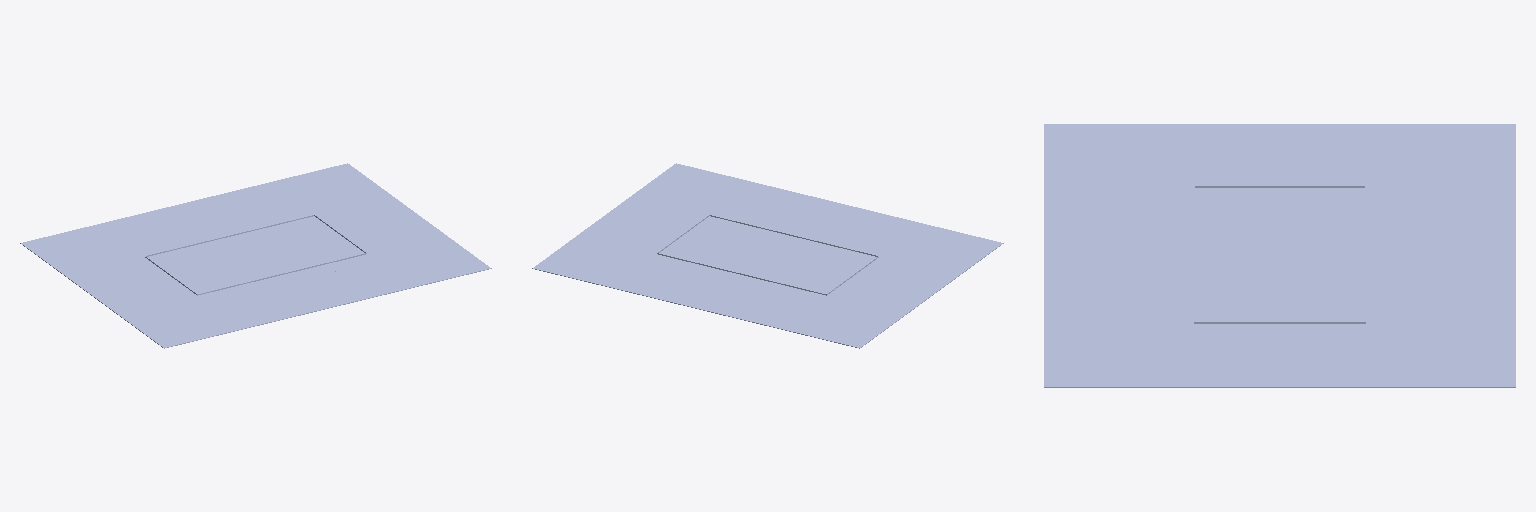
URDF robot description (arna):
<?xml version="1.0" encoding="utf-8"?>
<!-- This URDF was automatically created by SolidWorks to URDF Exporter! Originally created by Stephen Brawner (brawner@gmail.com) 
     Commit Version: 1.6.0-4-g7f85cfe  Build Version: 1.6.7995.38578
     For more information, please see http://wiki.ros.org/sw_urdf_exporter -->
<robot
  name="arna">
  <link
    name="base_link">
    <inertial>
      <origin
        xyz="7.5 4 -0.12402"
        rpy="0 0 0" />
      <mass
        value="32993" />
      <inertia
        ixx="1303200"
        ixy="-5172.5"
        ixz="1.9558E-14"
        iyy="2274500"
        iyz="-1.0441E-13"
        izz="3577600" />
    </inertial>
    <visual>
      <origin
        xyz="0 0 0"
        rpy="0 0 0" />
      <geometry>
        <mesh
          filename="package://arna/meshes/base_link.STL" />
      </geometry>
      <material
        name="">
        <color
          rgba="0.79216 0.81961 0.93333 1" />
      </material>
    </visual>
    <collision>
      <origin
        xyz="0 0 0"
        rpy="0 0 0" />
      <geometry>
        <mesh
          filename="package://arna/meshes/base_link.STL" />
      </geometry>
    </collision>
  </link>
</robot>

--- What the picture shows (computed from the rendered views, not written in the file) ---
3 views of the same robot in one strip: view 1: azimuth 30°, elevation 25°; view 2: azimuth 150°, elevation 25°; view 3: azimuth 270°, elevation 25° (orthographic).
Robot: arna — 1 links, 0 joints (none); root link base_link; default pose: all joints at 0.
Visible links, largest first — view 1: base_link; view 2: base_link; view 3: base_link.
Link boxes in pixels (box(x1,y1,x2,y2)): base_link: box(20, 163, 491, 348); base_link: box(532, 163, 1003, 348); base_link: box(1044, 124, 1515, 387).
Size in the robot's own frame: 29.1 by 22.1 by 0.15 metres.
Meshes: 1 distinct files referenced, 1 mesh visuals loaded (1 binary STL).
